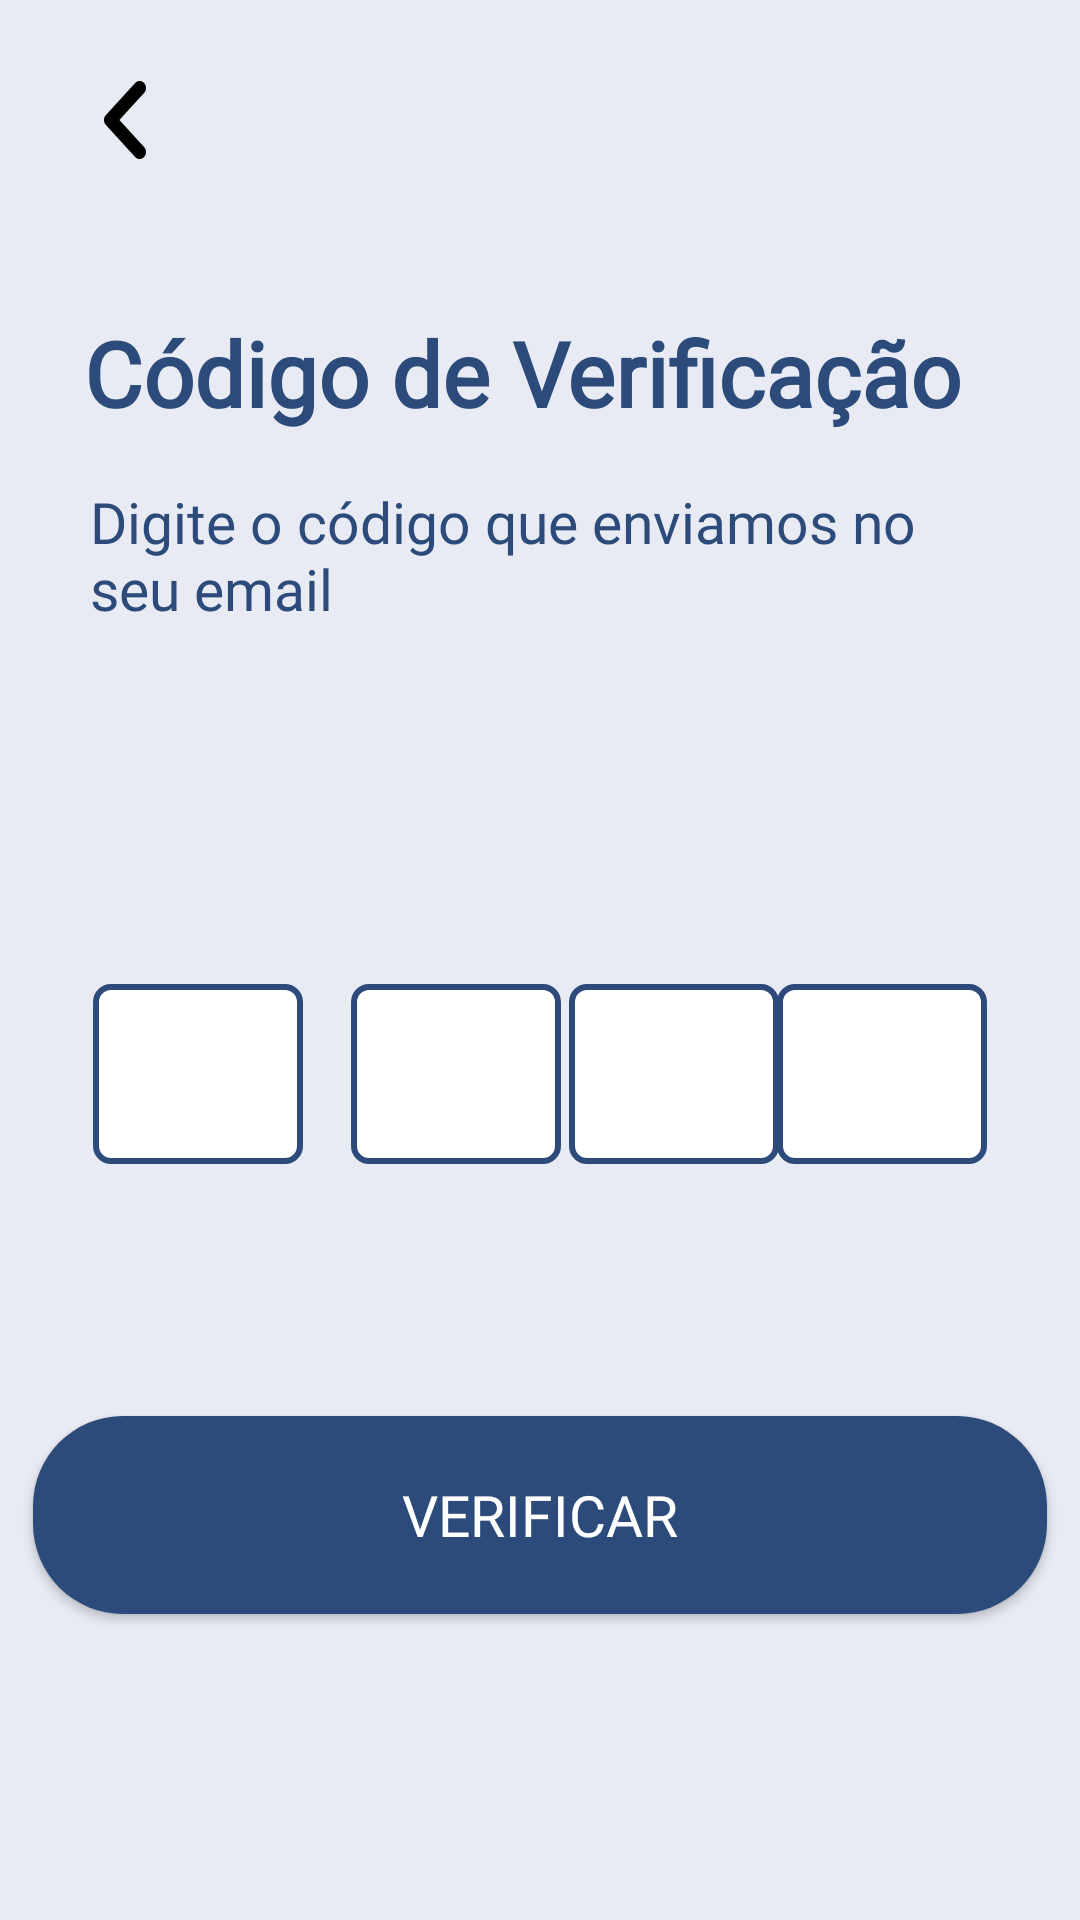

Named icons in this screenshot (1080 × 1920) and their centers, point (x, y):
seta: point (125, 120)
